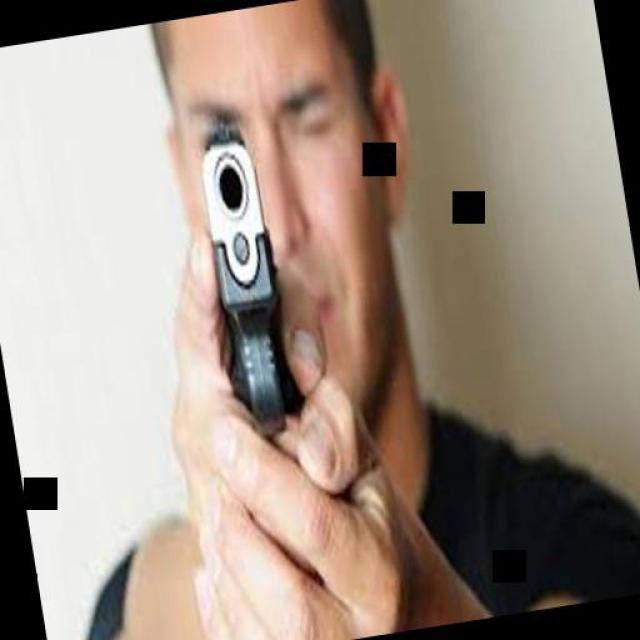gun: (190, 108, 312, 476)
